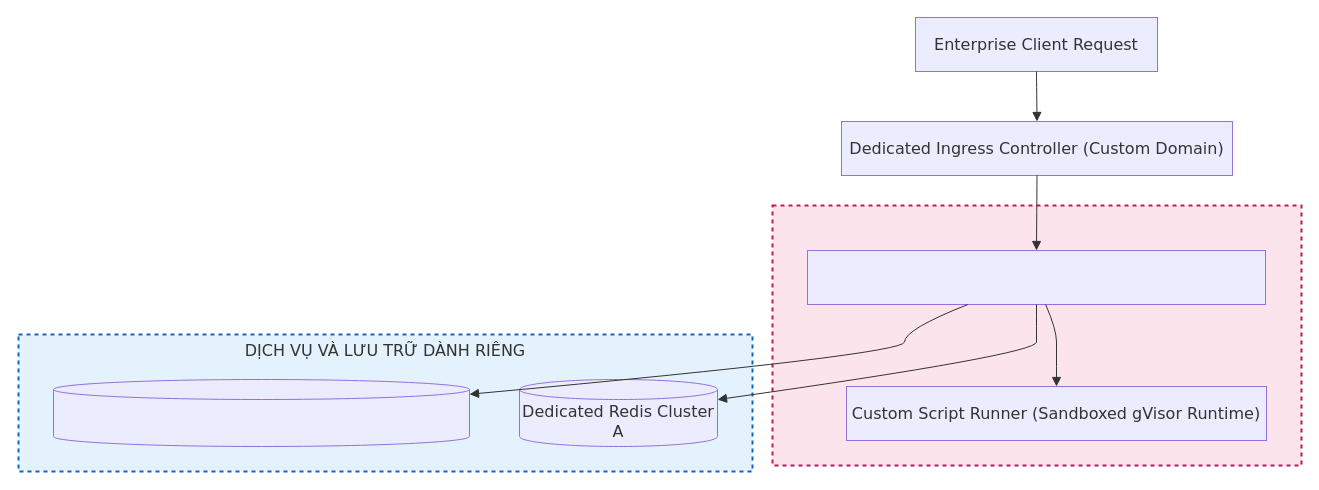
The diagram is 1319 pixels wide and 490 high, and some of its shapes have lost their labels. The shapes that lost their labels are listed below. From the top down, each one's box as (x1, y1, x2, y2) in pixels, then its label:
(806, 250, 1266, 304): Dedicated App Pod (CPU limit: 4 cores, RAM limit: 8GB)
(771, 204, 1302, 466): KUBERNETES ISOLATED NAMESPACE (CGROUPS V2)
(52, 378, 470, 446): Dedicated PostgreSQL RDS Instance A (BYOK Encryption)
